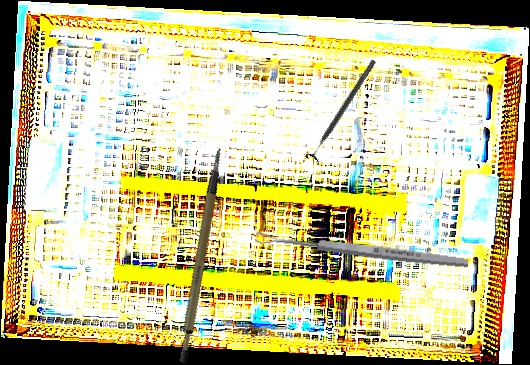Fixation Ring: (304, 56, 382, 166)
Scalpel Handle: (150, 146, 256, 365)
Surgical Spoon: (254, 230, 470, 270)
